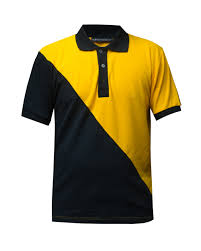S_polo shirt: (17, 28, 179, 226)
